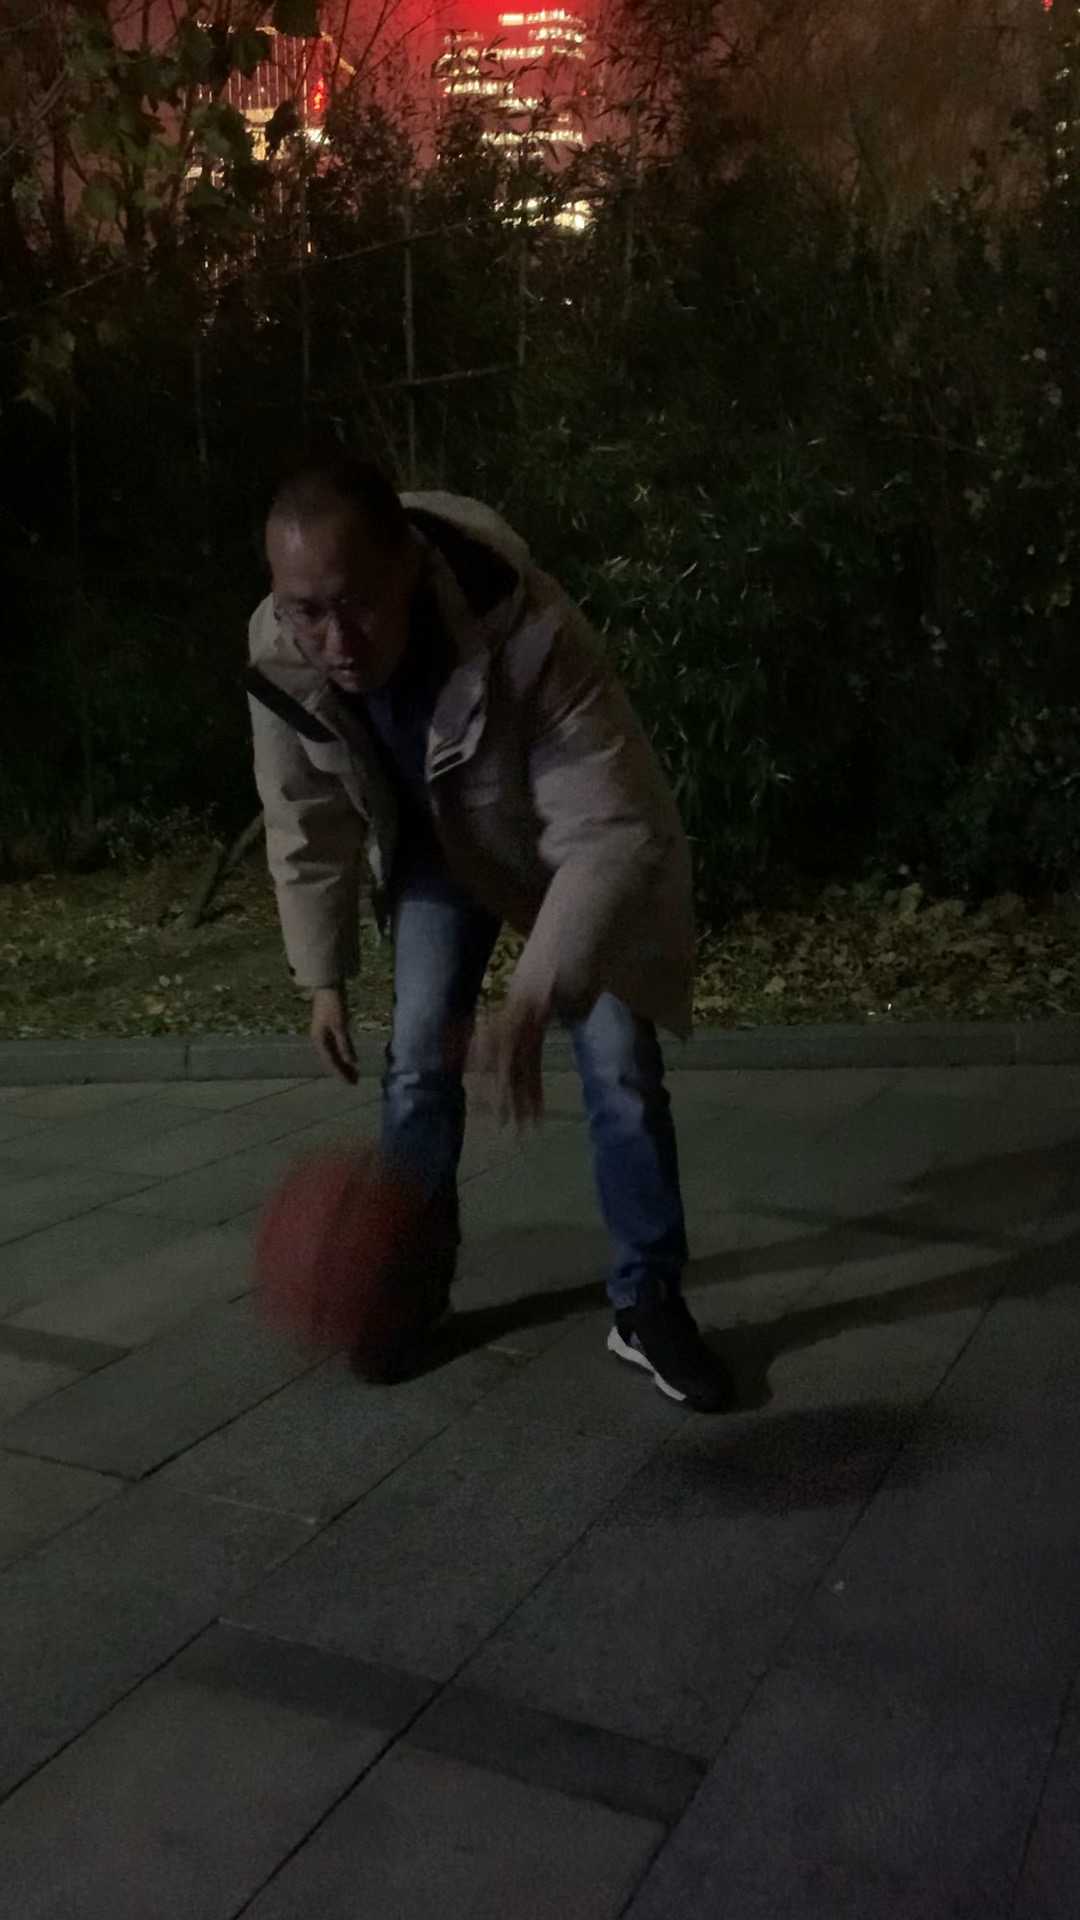ball: (258, 1153, 460, 1361)
